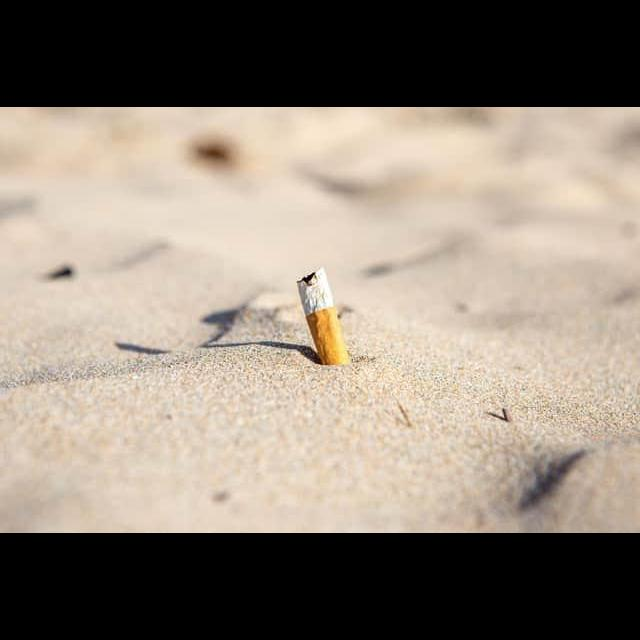Cigarette Butt: (294, 265, 351, 367)
